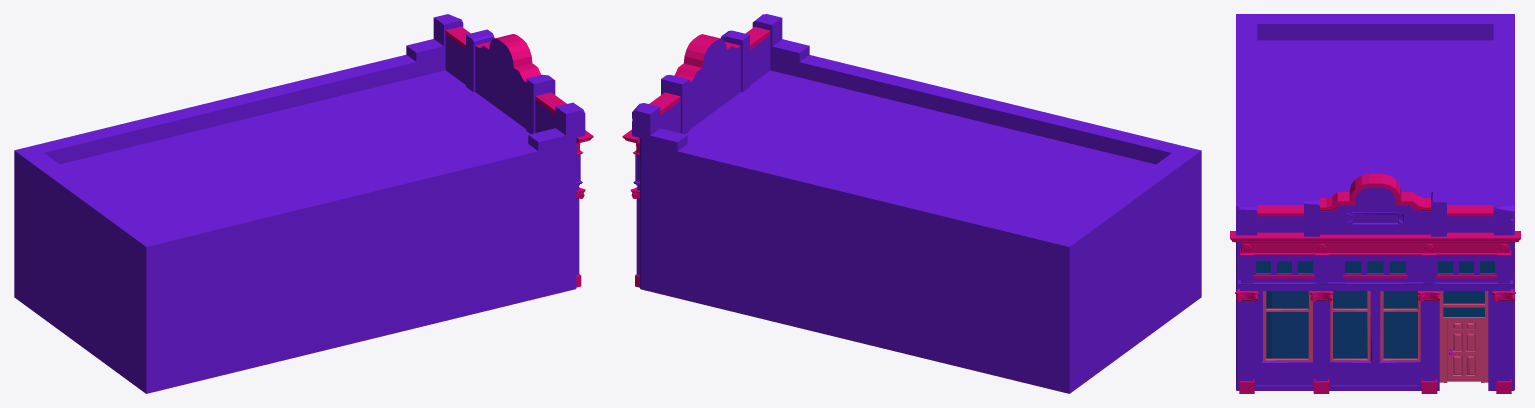
The model's file is Backhill_Building02.fbx.
3 views of the same model, side by side, from view 1: azimuth 30°, elevation 25°; view 2: azimuth 150°, elevation 25°; view 3: azimuth 270°, elevation 25° (orthographic). The views are drawn at different scales.
Parts seen in each view (by area): view 1: SM_Backhill_Building_01c.mo; view 2: SM_Backhill_Building_01c.mo; view 3: SM_Backhill_Building_01c.mo.
Part boxes in pixels (left/top/right/bottom): SM_Backhill_Building_01c.mo: left=14, top=14, right=593, bottom=393; SM_Backhill_Building_01c.mo: left=622, top=14, right=1201, bottom=393; SM_Backhill_Building_01c.mo: left=1230, top=14, right=1520, bottom=393.
Size of the model in its own units: 1689 by 730 by 906.
